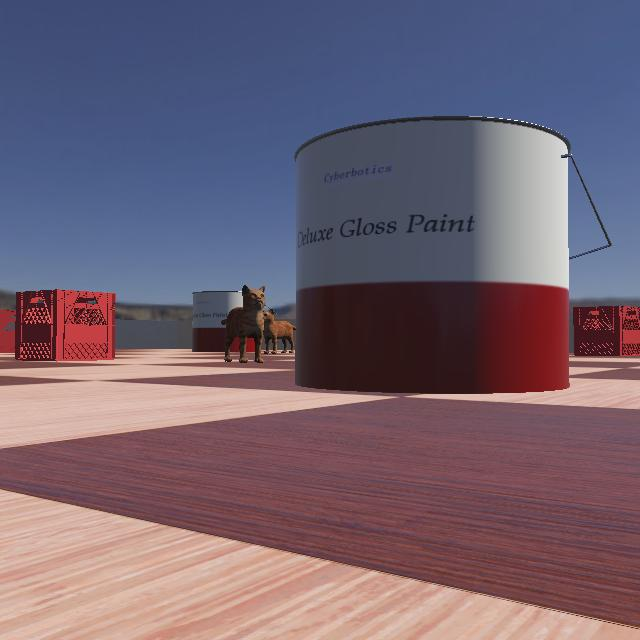cat: (202, 282, 274, 366), (202, 282, 274, 366), (202, 282, 274, 366), (202, 282, 274, 366), (257, 308, 305, 354), (257, 308, 305, 354), (257, 308, 305, 354), (257, 308, 305, 354), (257, 308, 305, 354)
paint-bucket: (286, 113, 640, 405), (286, 113, 640, 405), (286, 113, 640, 405)
plastic-crate: (0, 288, 126, 364), (562, 305, 640, 357), (562, 305, 640, 357)
